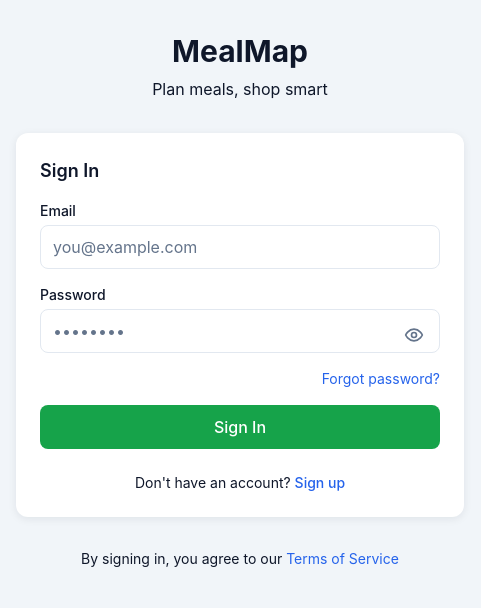
it: LoginPage › displays validation errors for empty fields
Click the button "Sign In" at (240, 427), box [40, 405, 440, 449]
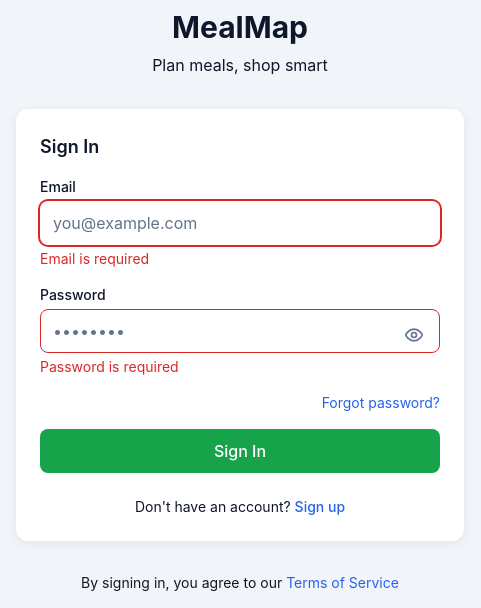
Check: the text "Email is required" is shown, box [40, 250, 149, 267]
Check: the text "Password is required" is shown, box [40, 358, 179, 375]
